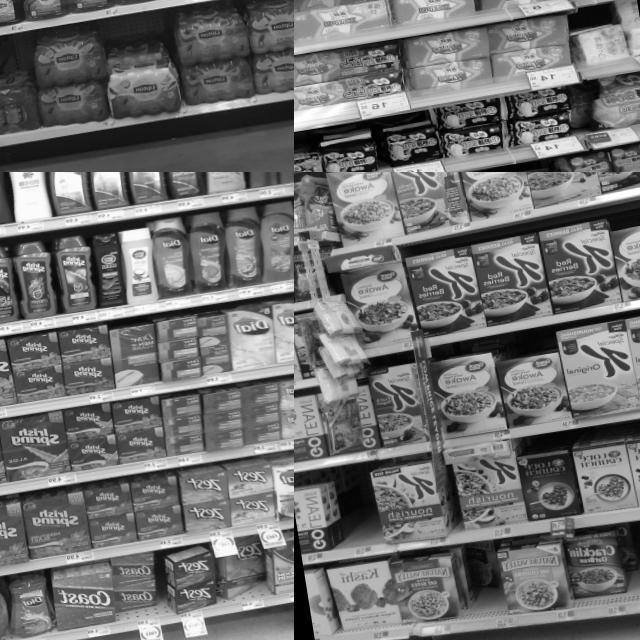Imprecise: (114, 554, 168, 622), (447, 544, 497, 616), (220, 539, 274, 605)
